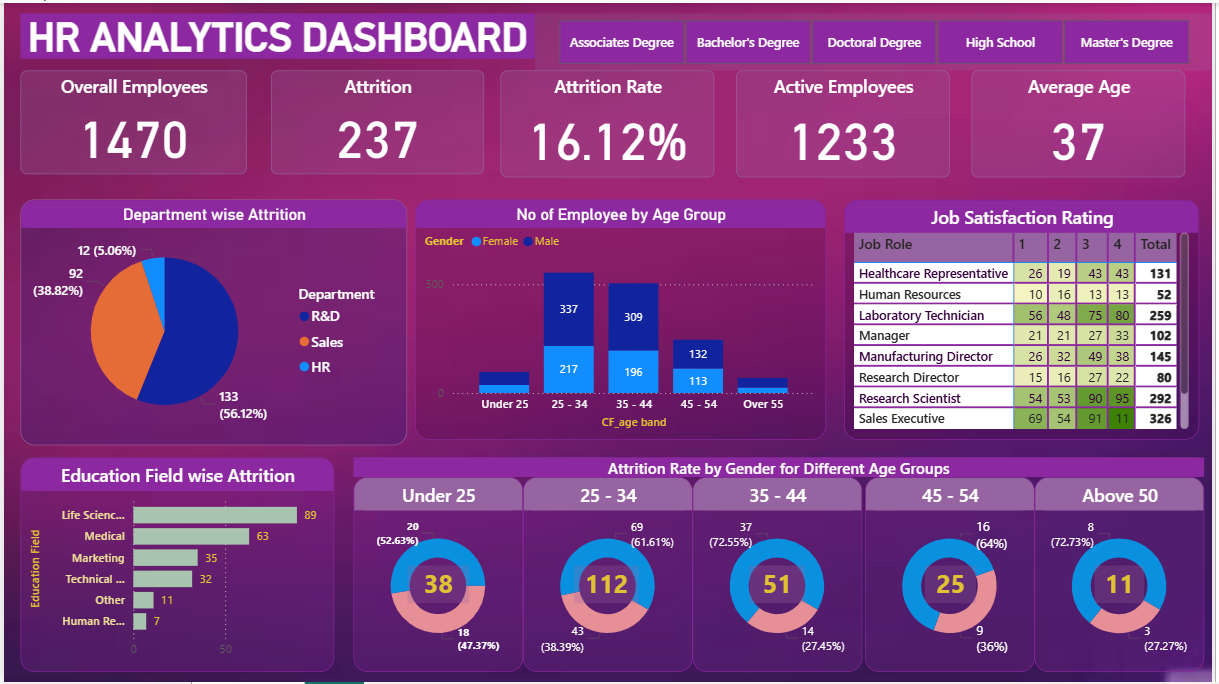

The dashboard page shown, as its layout file describes it:
{"tool":"powerbi","page":{"name":"Page 1","canvas":[1280,720],"ordinal":0},"visuals":[{"type":"card","title":"Overall Employees","fields":{"Values":["Sum(HR data.Employee Count)"]},"box":[17,71.8,240,110],"z":0},{"type":"card","title":"Attrition","fields":{"Values":["Sum(HR data.Attrition Count)"]},"box":[283.1,71.6,225.9,109.8],"z":1000},{"type":"card","title":"Attrition Rate","fields":{"Values":["HR data.Attrition Rate"]},"box":[527.2,71.8,226.8,113.4],"z":2000},{"type":"card","title":"Active Employees","fields":{"Values":["HR data.Active Employees"]},"box":[776.7,71.8,226.8,113.4],"z":3000},{"type":"card","title":"Average Age","fields":{"Values":["Avg(HR data.Age)"]},"box":[1026.1,71.8,226.8,113.4],"z":4000},{"type":"pieChart","title":"Department wise Attrition","fields":{"Category":["HR data.Department"],"Y":["Sum(HR data.Attrition Count)"]},"box":[17,207.9,410.1,260.8],"z":5000},{"type":"columnChart","title":"No of Employee by Age Group","fields":{"Category":["HR data.CF_age band"],"Y":["Sum(HR data.Employee Count)"],"Series":["HR data.Gender"]},"box":[435.8,208.4,435.8,254.5],"z":6000},{"type":"pivotTable","title":"Job Satisfaction Rating","fields":{"Rows":["HR data.Job Role"],"Columns":["HR data.Job Satisfaction"],"Values":["Sum(HR data.Employee Count)"]},"box":[890.7,208.4,377,254.5],"z":7000},{"type":"barChart","title":"Education Field wise Attrition","fields":{"Category":["HR data.Education Field"],"Y":["Sum(HR data.Attrition Count)"]},"box":[17.5,482,332.4,227.5],"z":8000},{"type":"textbox","title":"Attrition Rate by Gender for Different Age Groups","box":[370.6,482,901.9,20.7],"z":9000},{"type":"donutChart","title":"Under 25","fields":{"Category":["HR data.Gender"],"Y":["Sum(HR data.Attrition Count)"],"Series":["HR data.CF_age band"]},"box":[370.6,502.6,179.7,206.8],"z":10000},{"type":"donutChart","title":"25 - 34","fields":{"Category":["HR data.Gender"],"Y":["Sum(HR data.Attrition Count)"],"Series":["HR data.CF_age band"]},"box":[550.4,502.6,179.7,206.8],"z":11000},{"type":"donutChart","title":"35 - 44","fields":{"Category":["HR data.Gender"],"Y":["Sum(HR data.Attrition Count)"],"Series":["HR data.CF_age band"]},"box":[730.1,502.6,179.7,206.8],"z":12000},{"type":"donutChart","title":"45 - 54","fields":{"Category":["HR data.Gender"],"Y":["Sum(HR data.Attrition Count)"],"Series":["HR data.CF_age band"]},"box":[913,502.6,179.7,206.8],"z":13000},{"type":"donutChart","title":"Above 50","fields":{"Category":["HR data.Gender"],"Y":["Sum(HR data.Attrition Count)"],"Series":["HR data.CF_age band"]},"box":[1092.7,502.6,180,206.8],"z":14000},{"type":"card","fields":{"Values":["Sum(HR data.Attrition Count)"]},"box":[427.9,596.5,65.2,39.8],"z":14001},{"type":"card","fields":{"Values":["Sum(HR data.Attrition Count)"]},"box":[604.4,596.5,68.4,39.8],"z":14002},{"type":"card","fields":{"Values":["Sum(HR data.Attrition Count)"]},"box":[790.5,596.5,58.9,39.8],"z":14003},{"type":"card","fields":{"Values":["Sum(HR data.Attrition Count)"]},"box":[976.6,596.5,54.1,39.8],"z":14004},{"type":"card","fields":{"Values":["Sum(HR data.Attrition Count)"]},"box":[1156.4,596.5,52.5,39.8],"z":14005},{"type":"shape","title":"HR ANALYTICS DASHBOARD","box":[17.5,11.1,545.6,47.7],"z":14006},{"type":"slicer","fields":{"Values":["HR data.Education"]},"box":[563.1,11.1,717.4,60.4],"z":14007}]}

Visuals, with their boxes in screenshot pixels (x1, y1, x2, y2), scaled from the page's 1280x720 canvas onto the 1219x684 screenshot:
"Overall Employees" card: [left=16, top=68, right=245, bottom=173]
"Attrition" card: [left=270, top=68, right=485, bottom=172]
"Attrition Rate" card: [left=502, top=68, right=718, bottom=176]
"Active Employees" card: [left=740, top=68, right=956, bottom=176]
"Average Age" card: [left=977, top=68, right=1193, bottom=176]
"Department wise Attrition" pieChart: [left=16, top=198, right=407, bottom=445]
"No of Employee by Age Group" columnChart: [left=415, top=198, right=830, bottom=440]
"Job Satisfaction Rating" pivotTable: [left=848, top=198, right=1207, bottom=440]
"Education Field wise Attrition" barChart: [left=17, top=458, right=333, bottom=674]
"Attrition Rate by Gender for Different Age Groups" textbox: [left=353, top=458, right=1212, bottom=478]
"Under 25" donutChart: [left=353, top=477, right=524, bottom=674]
"25 - 34" donutChart: [left=524, top=477, right=695, bottom=674]
"35 - 44" donutChart: [left=695, top=477, right=866, bottom=674]
"45 - 54" donutChart: [left=869, top=477, right=1041, bottom=674]
"Above 50" donutChart: [left=1041, top=477, right=1212, bottom=674]
card - Sum(HR data.Attrition Count): [left=408, top=567, right=470, bottom=604]
card - Sum(HR data.Attrition Count): [left=576, top=567, right=641, bottom=604]
card - Sum(HR data.Attrition Count): [left=753, top=567, right=809, bottom=604]
card - Sum(HR data.Attrition Count): [left=930, top=567, right=982, bottom=604]
card - Sum(HR data.Attrition Count): [left=1101, top=567, right=1151, bottom=604]
"HR ANALYTICS DASHBOARD" shape: [left=17, top=11, right=536, bottom=56]
slicer - HR data.Education: [left=536, top=11, right=1218, bottom=68]
